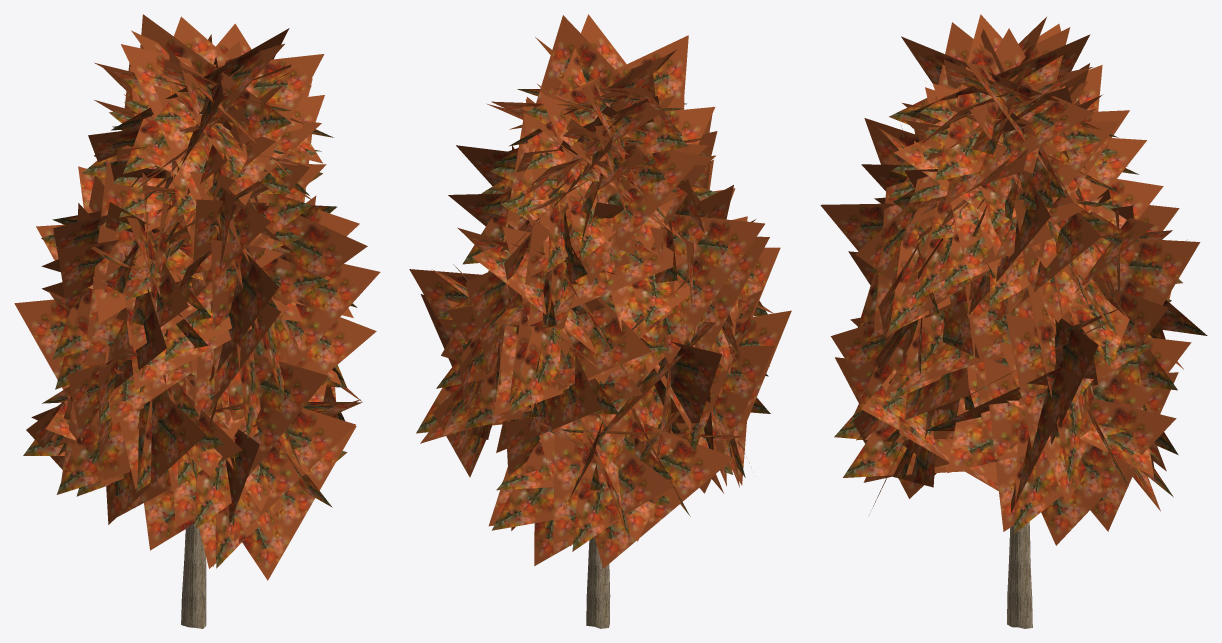
Rendered from Liquidambar_Styraciflua_Autumn_Young.glb.
3 views of the same model, side by side, from view 1: azimuth 30°, elevation 25°; view 2: azimuth 150°, elevation 25°; view 3: azimuth 270°, elevation 25° (orthographic). The views are drawn at different scales.
Parts seen in each view (by area): view 1: Liquidambar_Styraciflua_Autumn_Young__LOD3; view 2: Liquidambar_Styraciflua_Autumn_Young__LOD3; view 3: Liquidambar_Styraciflua_Autumn_Young__LOD3.
Part boxes in pixels (<box>): Liquidambar_Styraciflua_Autumn_Young__LOD3: <box>14,14,380,628</box>; Liquidambar_Styraciflua_Autumn_Young__LOD3: <box>409,14,791,628</box>; Liquidambar_Styraciflua_Autumn_Young__LOD3: <box>820,14,1207,628</box>.
Size of the model in its own units: 4.44 by 8.01 by 4.75.
Materials: 2 (2 with a texture image).
